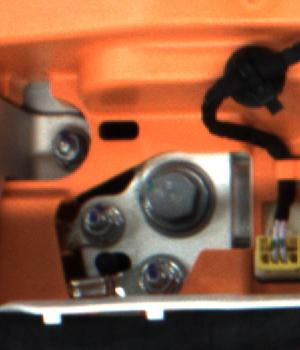nut_b: (142, 155, 217, 238)
screw_s: (83, 198, 131, 238), (48, 129, 89, 171), (143, 252, 175, 293)
